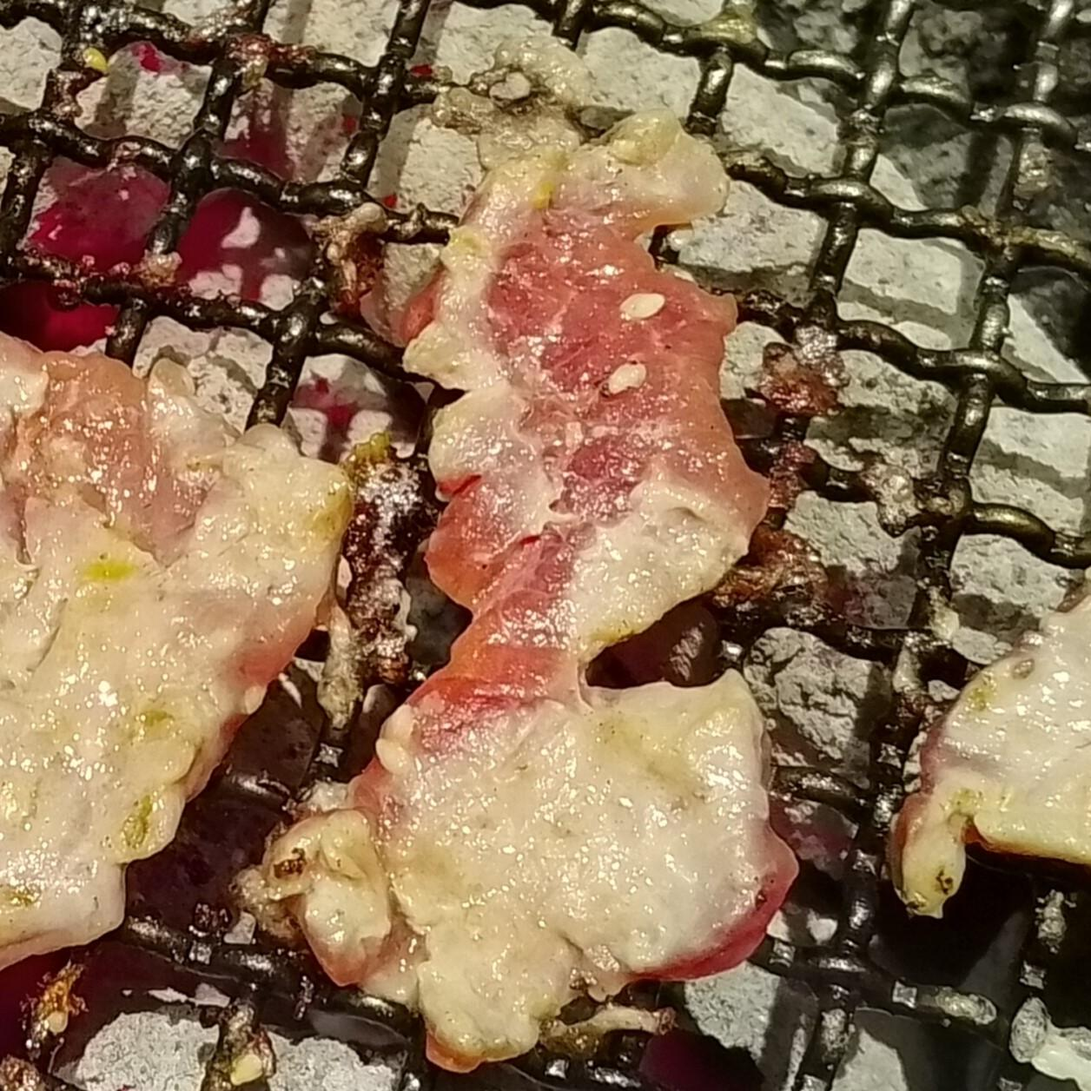Undercooked: (245, 117, 797, 1075), (0, 333, 352, 969)
Well-Cooked: (887, 568, 1090, 918)
